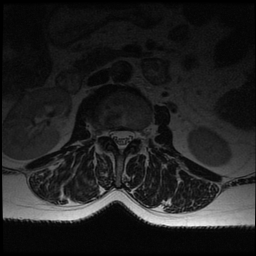CCS_normal: (118, 121, 126, 160)
LFS_normal: (135, 121, 143, 147)
LLS_normal: (126, 121, 135, 148)
RFS_normal: (100, 120, 109, 144)
RLS_normal: (109, 121, 118, 147)
